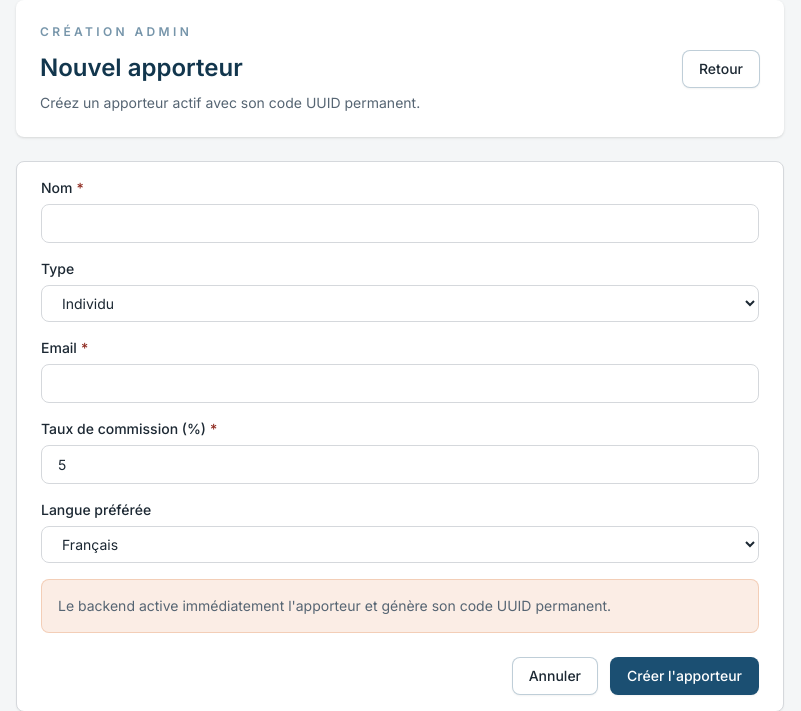
Test: CreateApporteur › envoie uniquement les champs autorisés et affiche le code créé
In the field labelled "Nom*": (400, 224) [41,204,759,243], type "Gamma Partners"
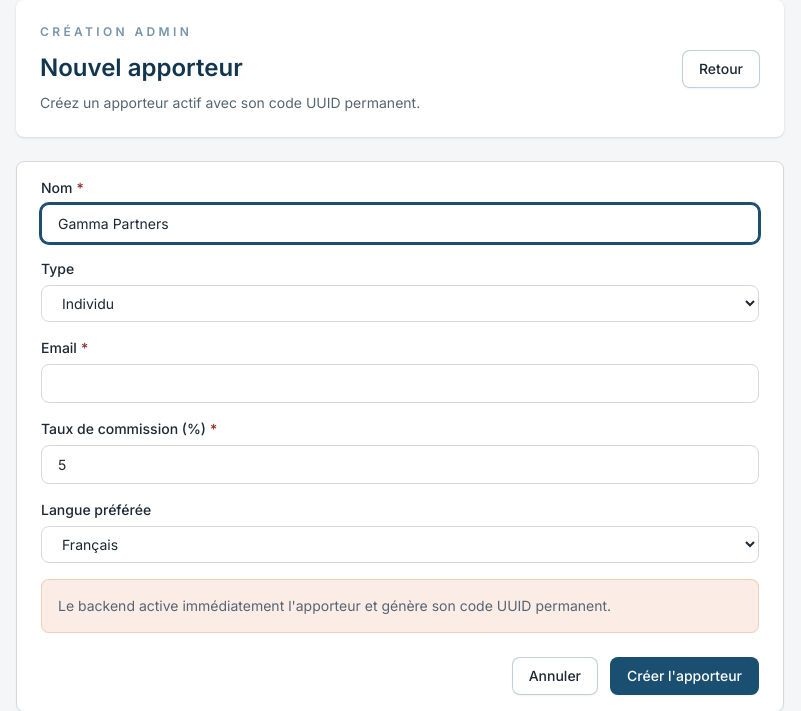
Select "Organisation" in the dropdown labelled "Type": (400, 304) [41,285,759,322]
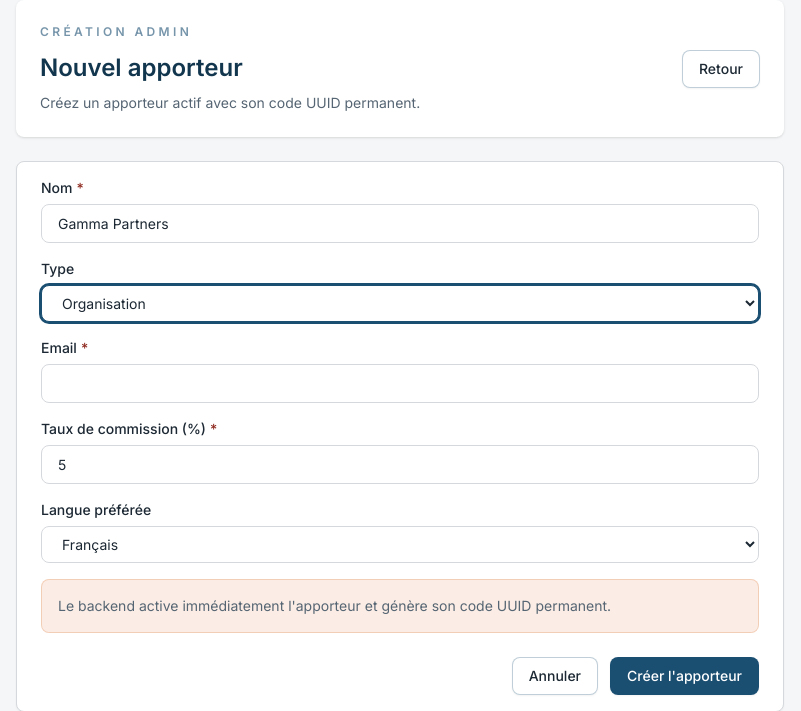
In the field labelled "Email*": (400, 384) [41,364,759,403], type "gamma@example.com"
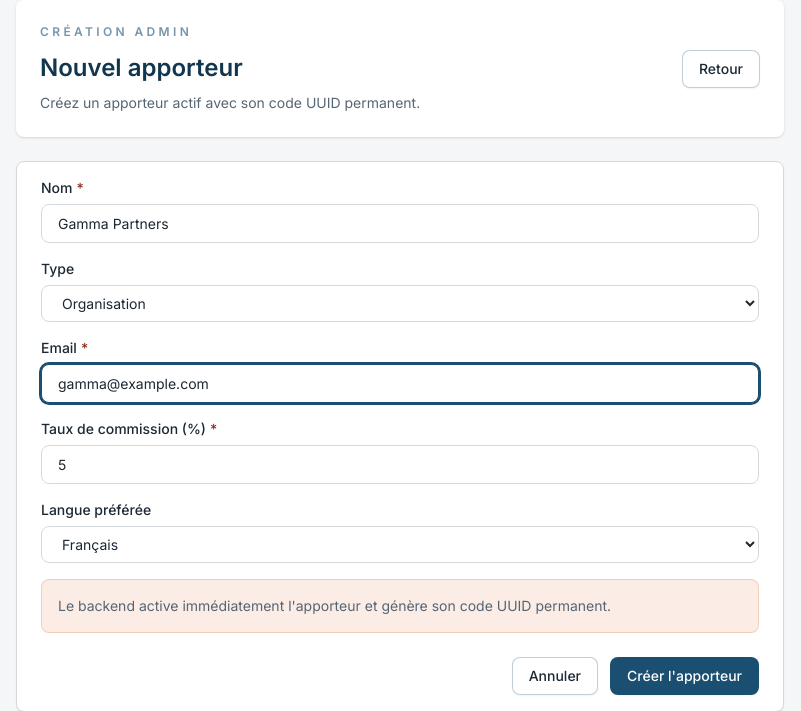
Replace the text in the number field labelled "Taux de commission (%)*" with "8": (400, 464) [41,445,759,484]
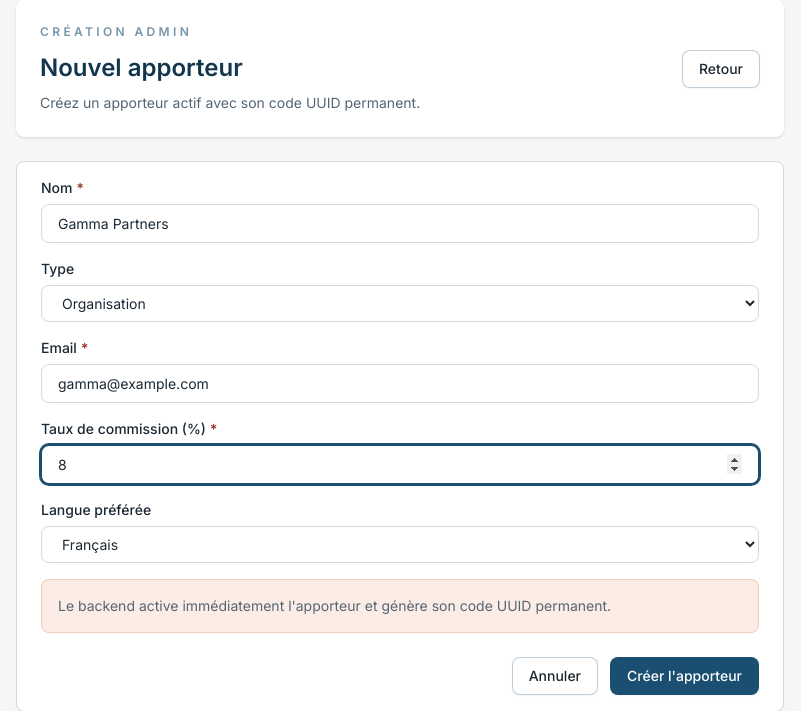
Select "Français" in the dropdown labelled "Langue préférée": (400, 544) [41,526,759,563]
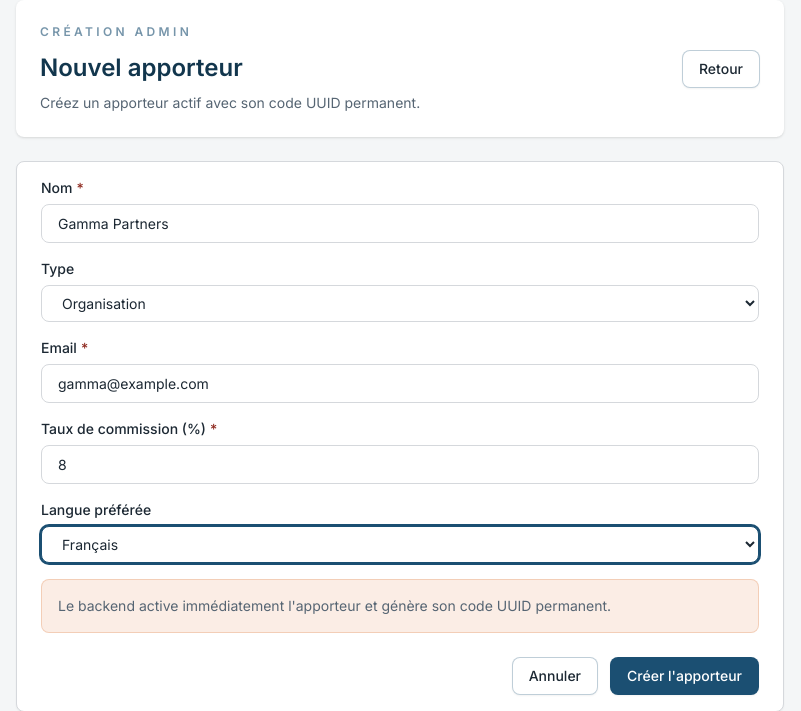
Click the button "Créer l'apporteur": (684, 676) [610,657,759,695]
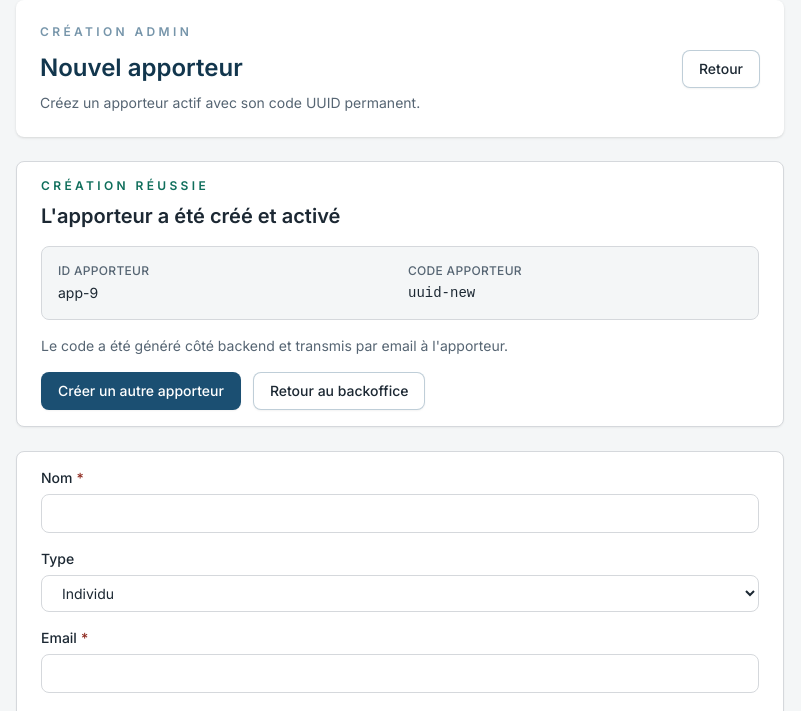
Result: the heading "L'apporteur a été créé et activé" is shown at [41,204,340,228]
Result: the text "app-9" is shown at [58,284,98,301]
Result: the text "uuid-new" is shown at [408,285,475,301]
